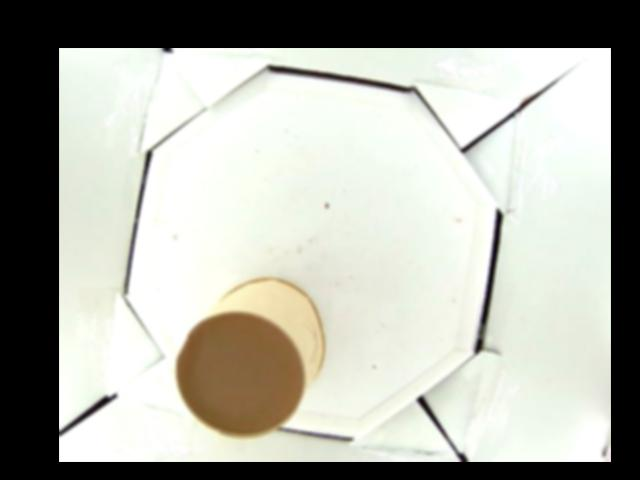Cup: (173, 276, 325, 437)
